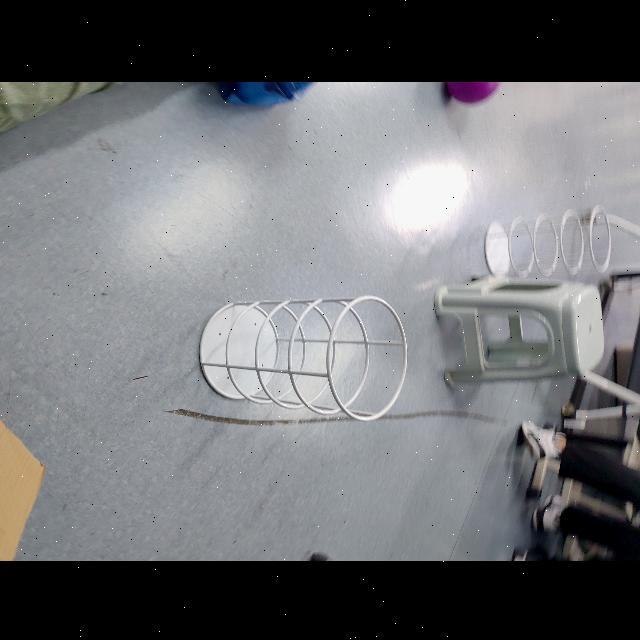S: (198, 294, 412, 422)
